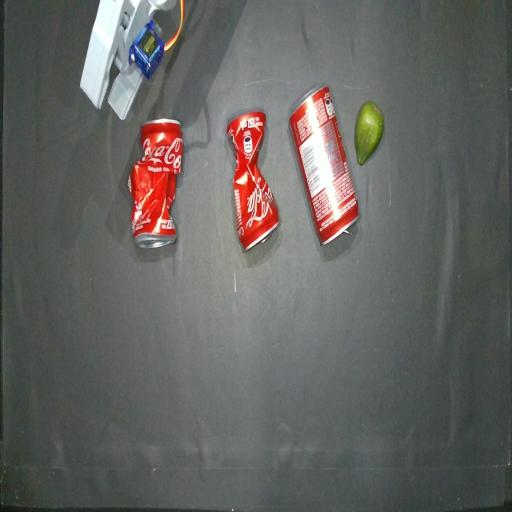higo: (355, 101, 383, 165)
lata: (290, 87, 358, 245)
lata_defectuoso: (226, 111, 279, 250), (128, 118, 183, 248)
